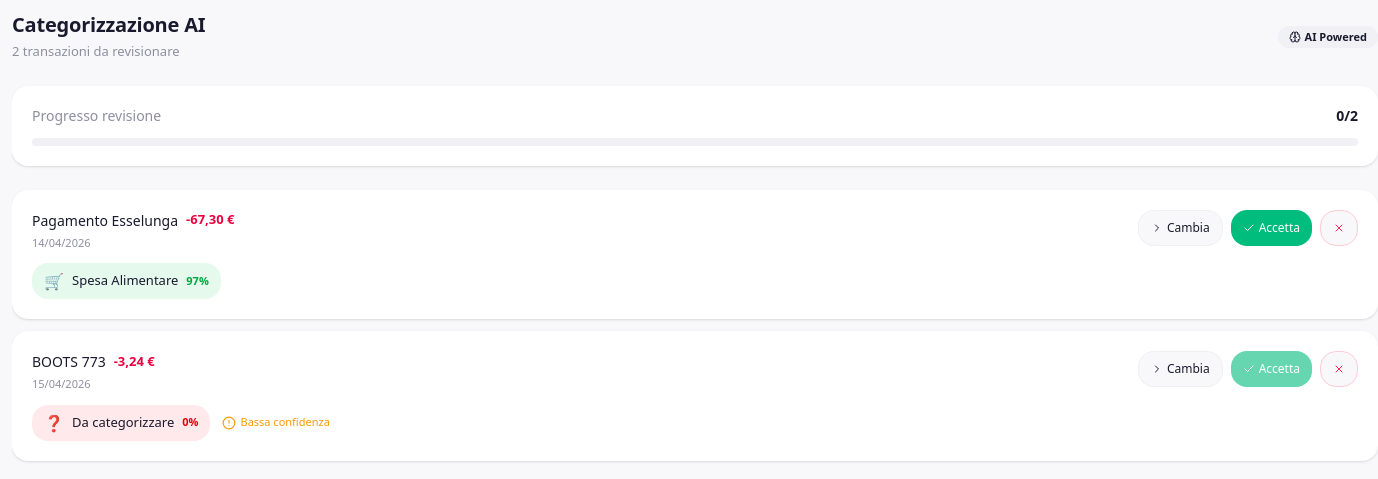
AICategorization › applies suggested category on Accept and removes from list
This screenshot has width=1378, height=479.
Check: the text "Pagamento Esselunga" is shown, box [32, 210, 178, 230]
Click the button "Accetta" in the row of "-67,30 €" at (1271,228), box [1231, 210, 1312, 246]
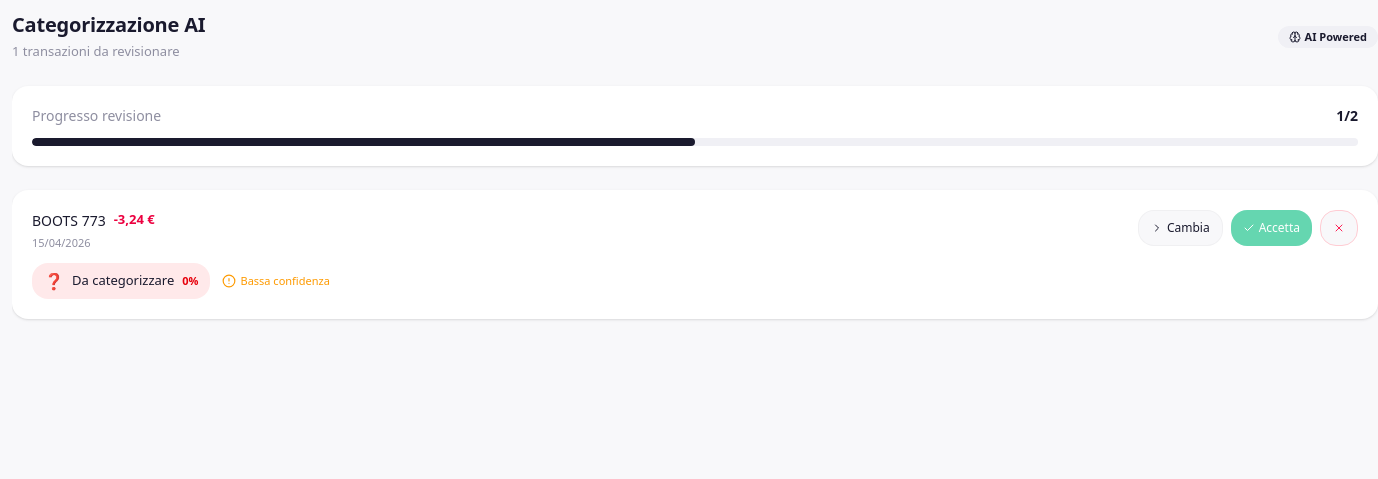
Check: the text "Pagamento Esselunga" is gone
